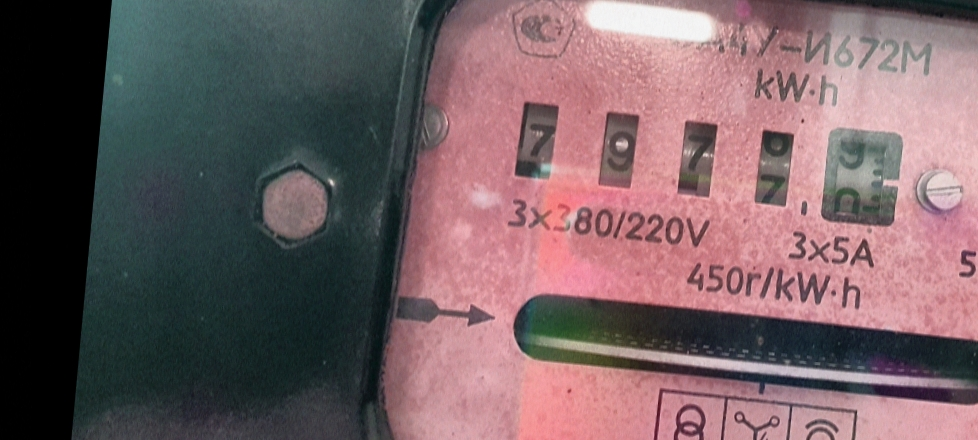0: (827, 180, 863, 221)
7: (521, 118, 555, 164), (680, 130, 714, 175), (753, 170, 786, 208)
9: (600, 126, 638, 174), (834, 133, 867, 171)
screen: (490, 77, 928, 251)
